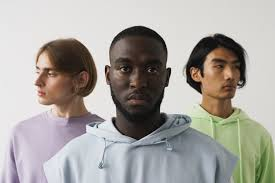face: (110, 53, 163, 113), (200, 53, 248, 101), (36, 58, 84, 105)
